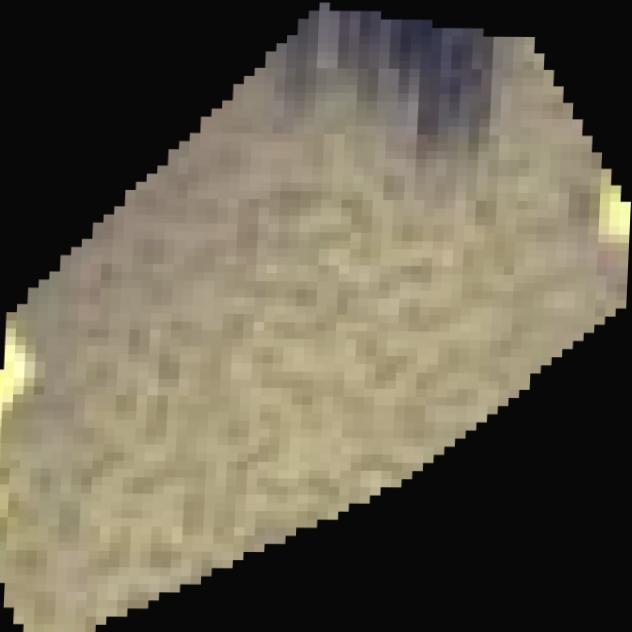Pitting Corrosion: (0, 1, 632, 632)
